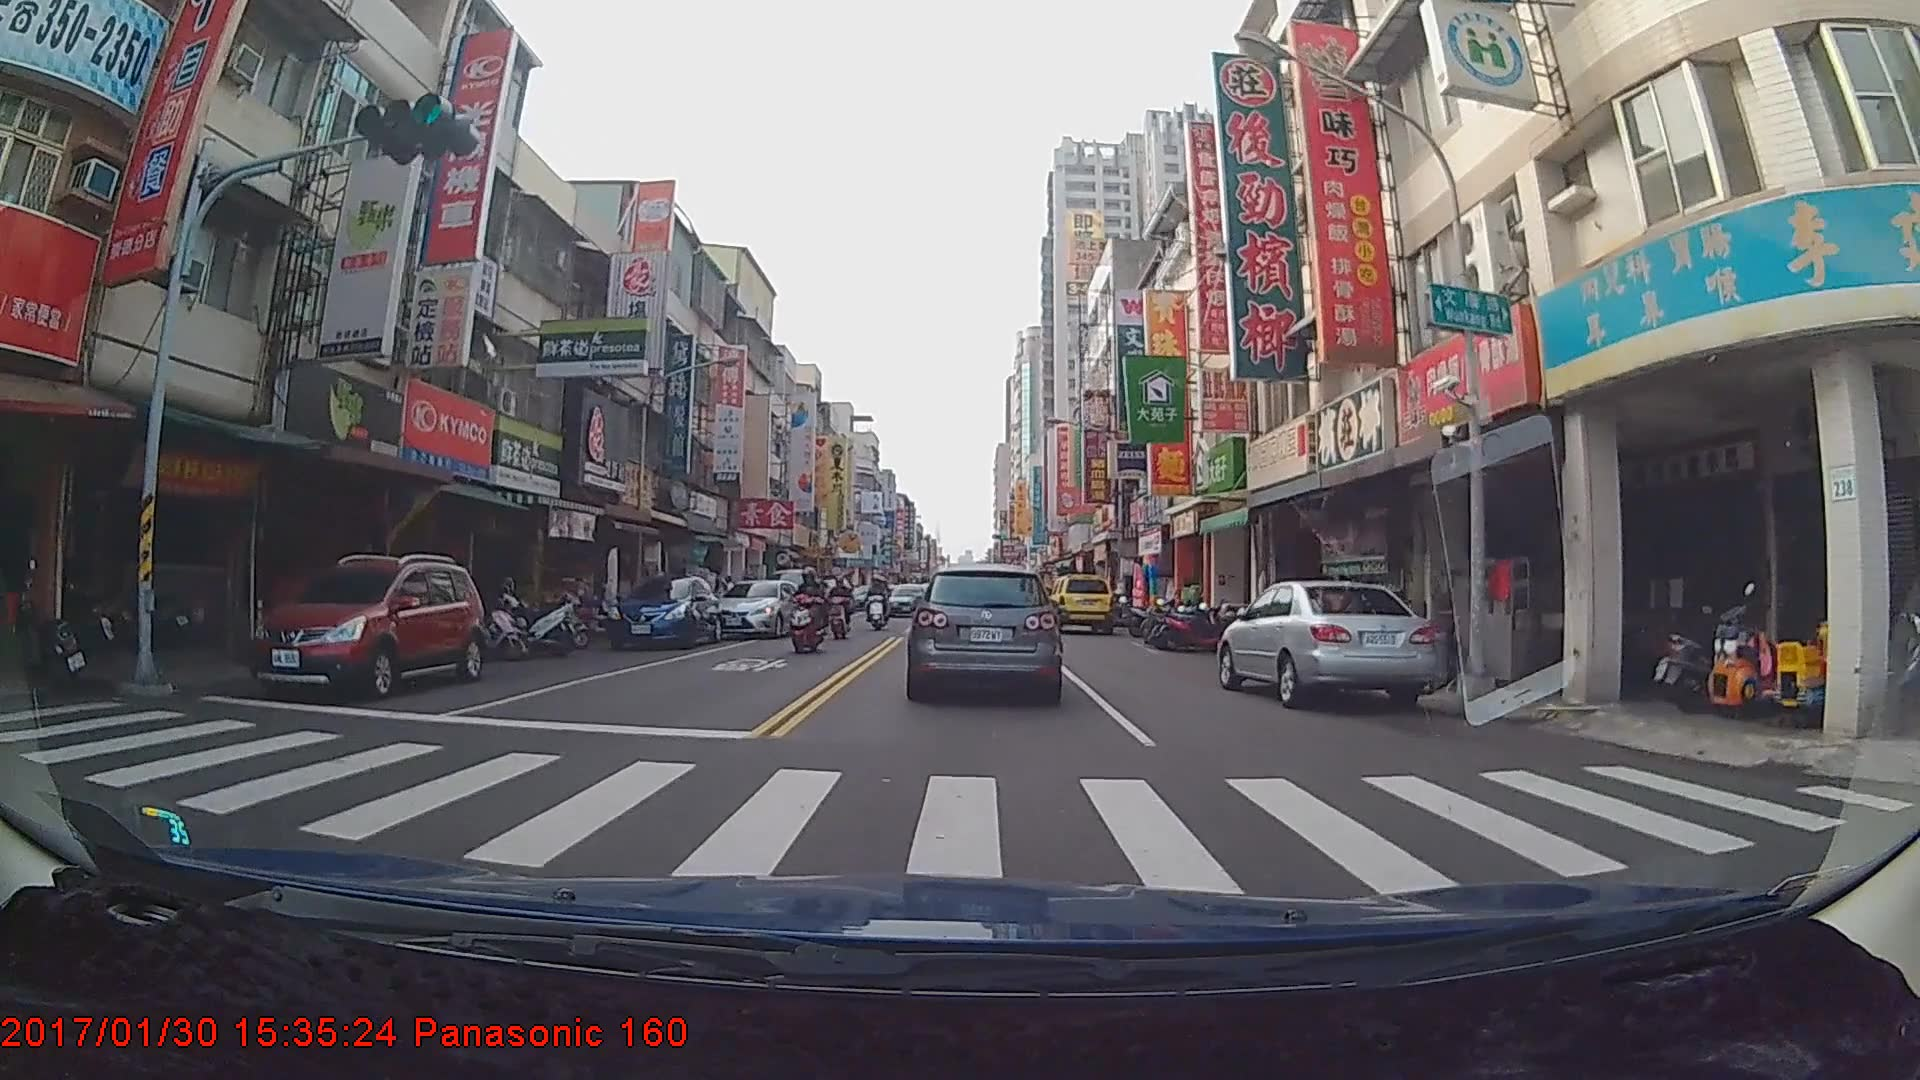rider: (786, 564, 831, 659), (823, 570, 856, 642), (869, 578, 892, 636)
vehicle: (240, 551, 481, 699), (1216, 578, 1438, 707), (906, 562, 1060, 702), (599, 575, 722, 650), (710, 579, 809, 637), (1048, 573, 1113, 630), (765, 565, 818, 618), (883, 581, 929, 617)
